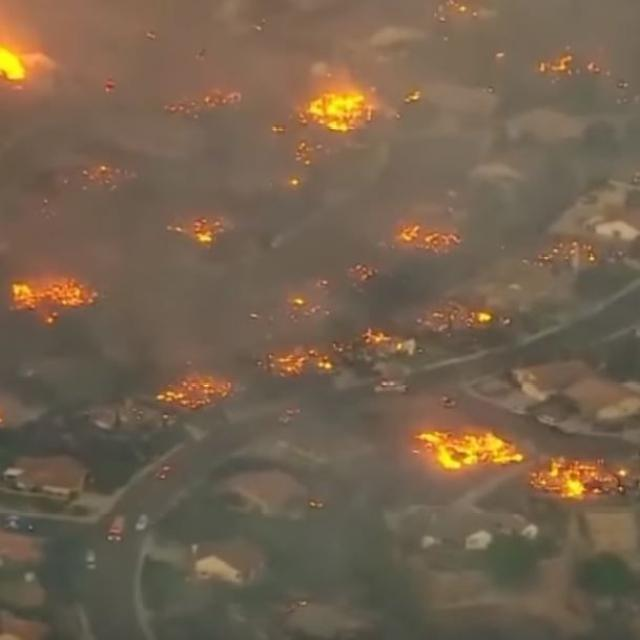Fire: (425, 418, 522, 484), (302, 77, 378, 141), (156, 365, 234, 421), (8, 271, 89, 321), (546, 449, 608, 510), (390, 220, 478, 261), (171, 84, 249, 124), (424, 300, 508, 334), (267, 341, 339, 377), (0, 31, 41, 87), (73, 156, 128, 194), (356, 315, 397, 357), (536, 44, 583, 80), (181, 211, 225, 245)
Smoke: (0, 0, 640, 633)
